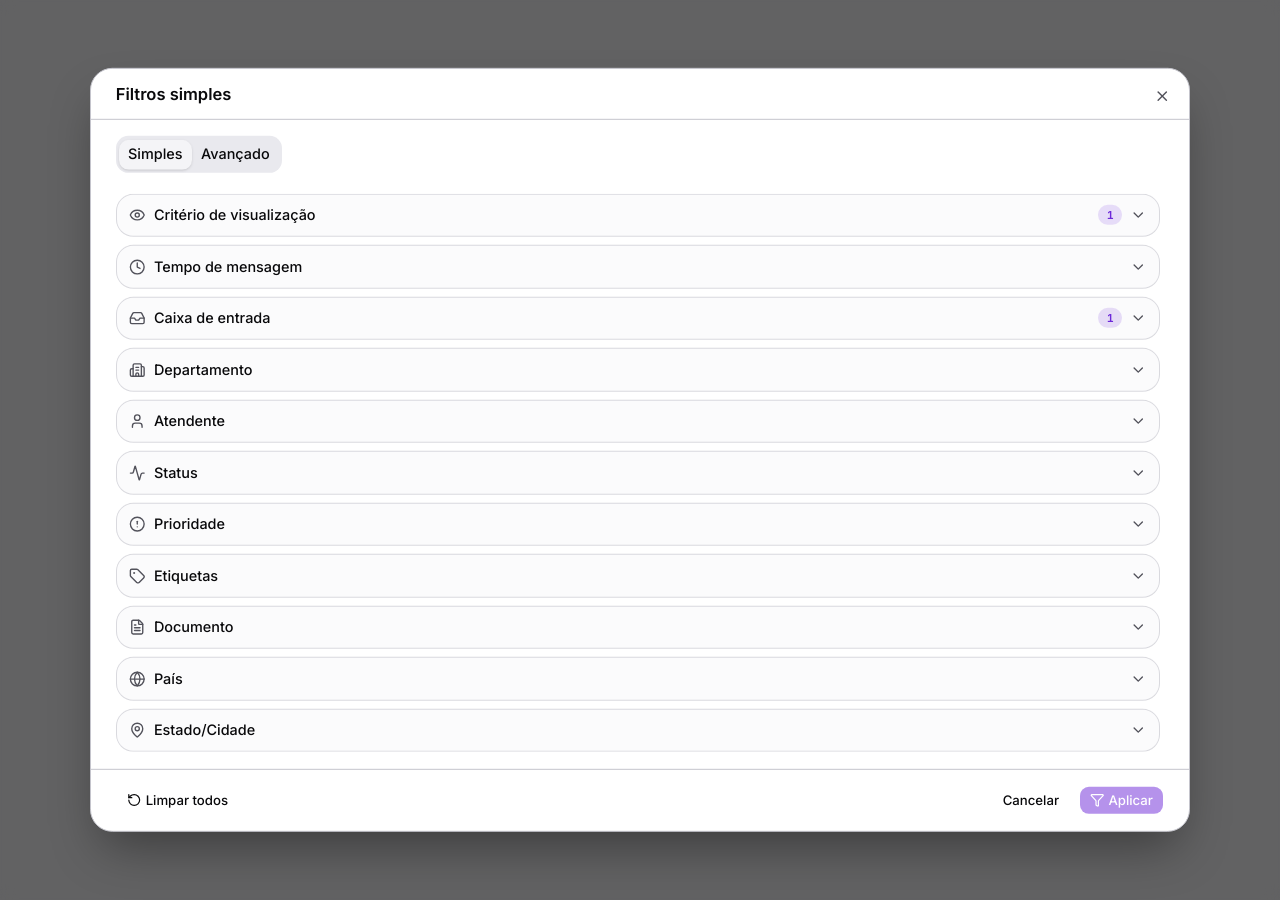
Scenario: FiltersDialog v0.32 T8 — AlertDialog ao trocar de tab com dados › trocar tab COM dados no Simples abre AlertDialog
The image size is (1280, 900).
Click the tab "Avançado".
click(235, 154)  # box [192,139,279,169]
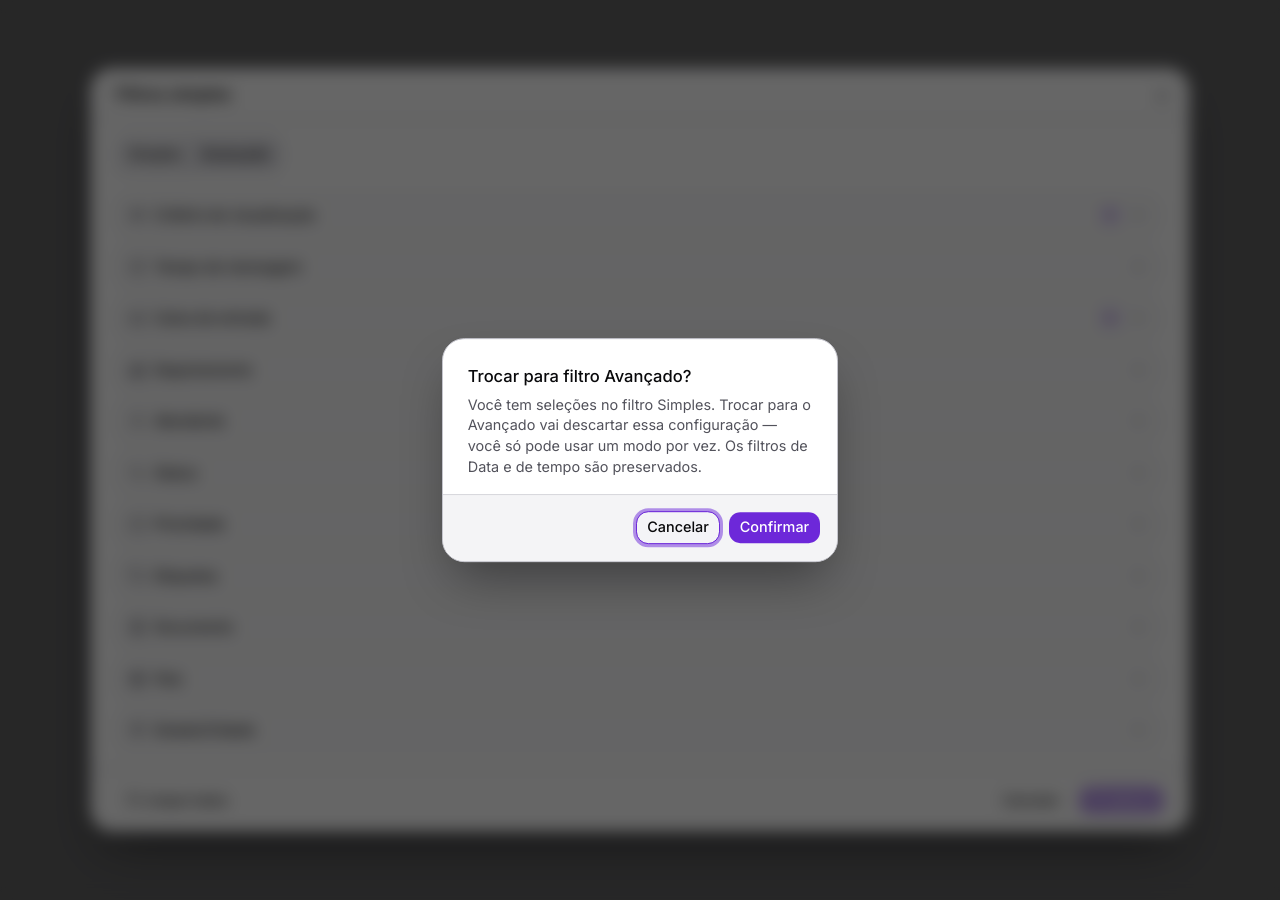
Now the heading "Trocar para filtro Avançado?" is shown, box [468,364,691,389]
Now the text "só pode usar um modo por vez" is shown, box [468,416,808,475]
